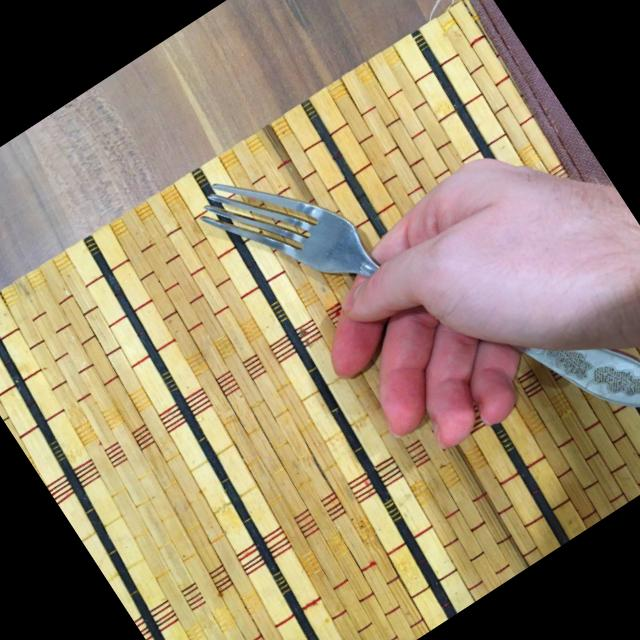fork: (186, 38, 640, 558)
